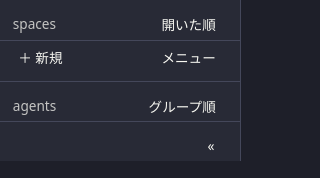
Test: Sidebar — ボタン › 折りたたみのボタンは畳んでも出し、aria-expanded で状態を伝える（AC1・AC2）
What coordinates should you click on to do the following:
click the button with class "sidebar-collapse-btn"
I would click on:
 (211, 146)
Its box is top-left (201, 134), bottom-right (221, 158).
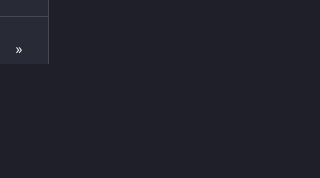
Expected: the button with class "sidebar-collapse-btn" is collapsed, top-left (9, 36), bottom-right (29, 61)
